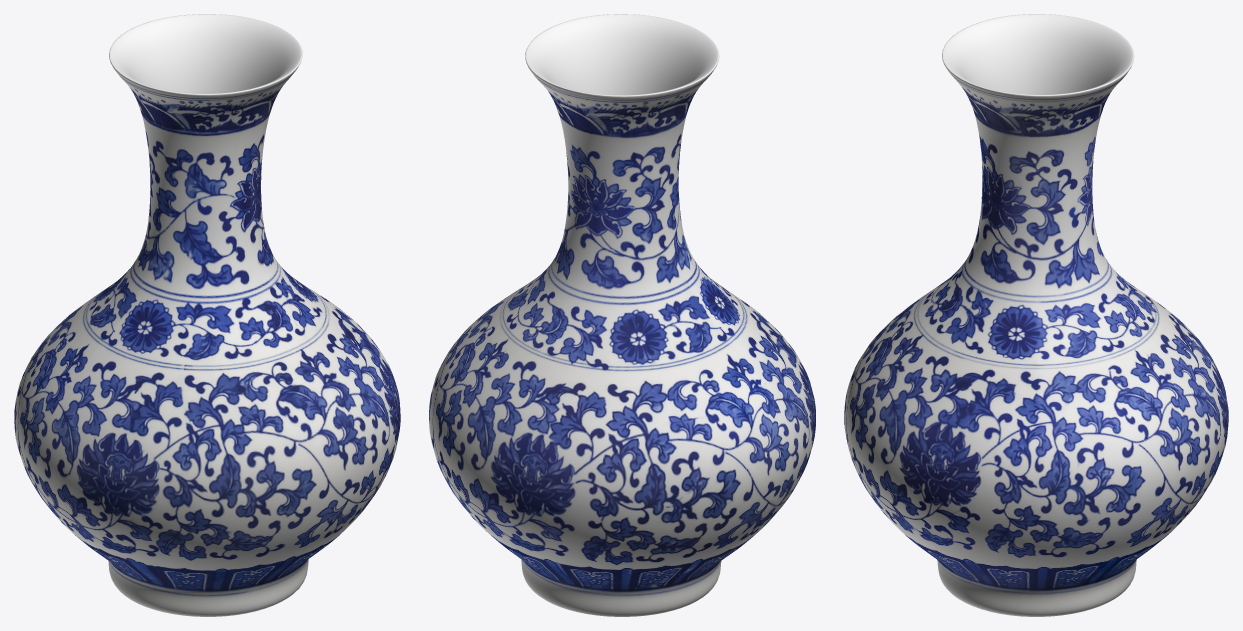
Rendered from porcelain_china_vase.glb.
The picture shows the model from 3 angles, left to right: view 1: azimuth 30°, elevation 25°; view 2: azimuth 150°, elevation 25°; view 3: azimuth 270°, elevation 25°; orthographic projection.
Visible parts, largest first — view 1: Object_2; view 2: Object_2; view 3: Object_2.
Boxes of the visible parts, x1,y1,x2,y2 form: Object_2: (14,14,400,616); Object_2: (429,14,815,616); Object_2: (844,14,1228,616).
Size of the model in its own units: 19.48 by 29.12 by 19.38.
Materials: 1 (1 with a texture image).
